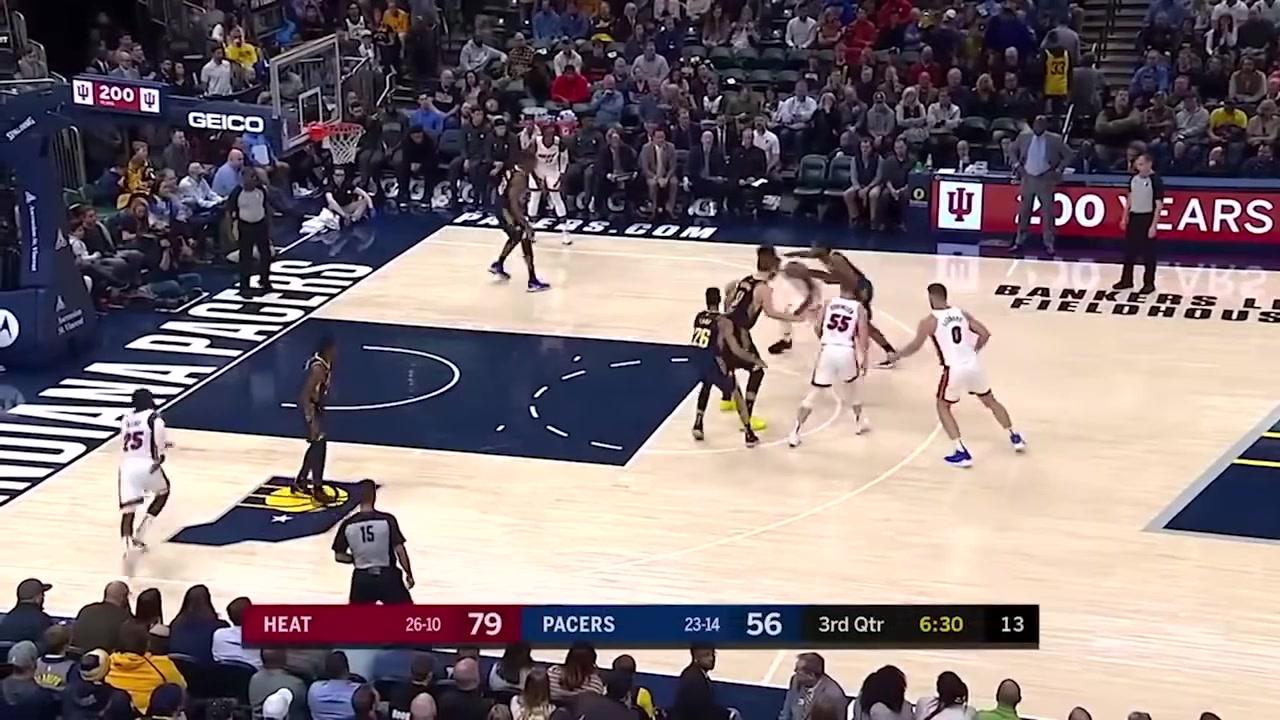no_foul: (662, 249, 777, 457)
